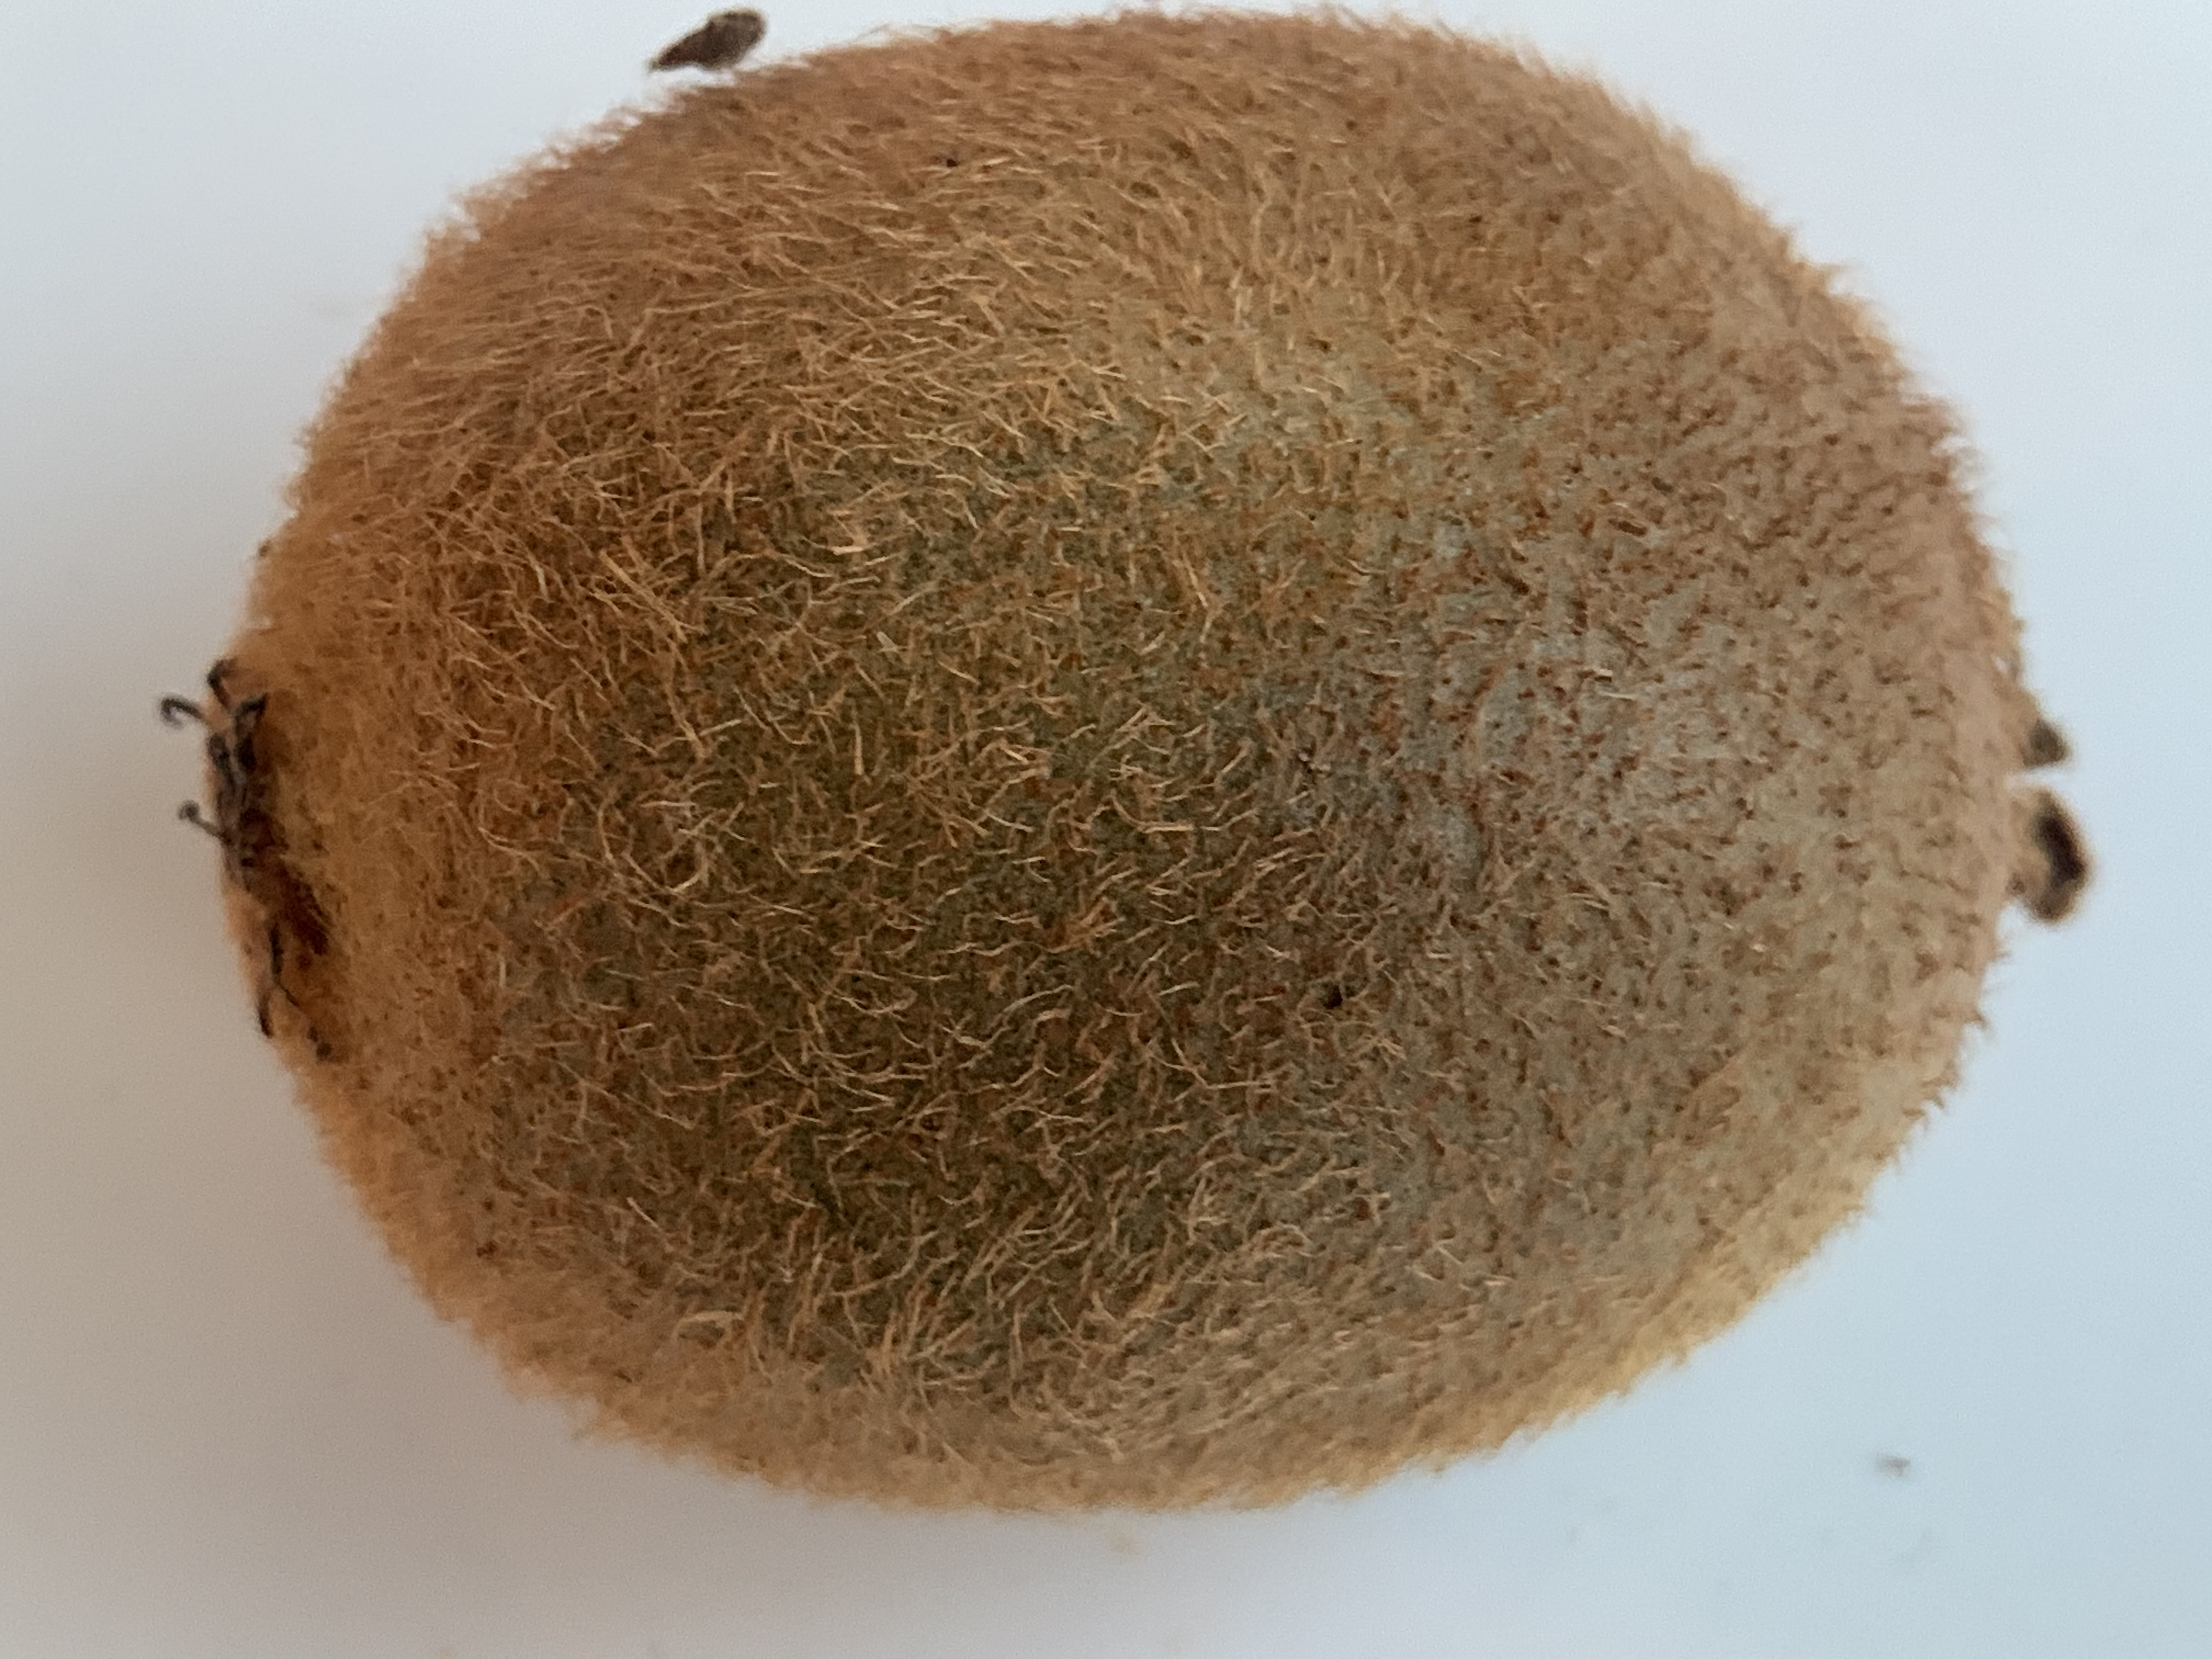kiwi: (9, 9, 2094, 1516)
